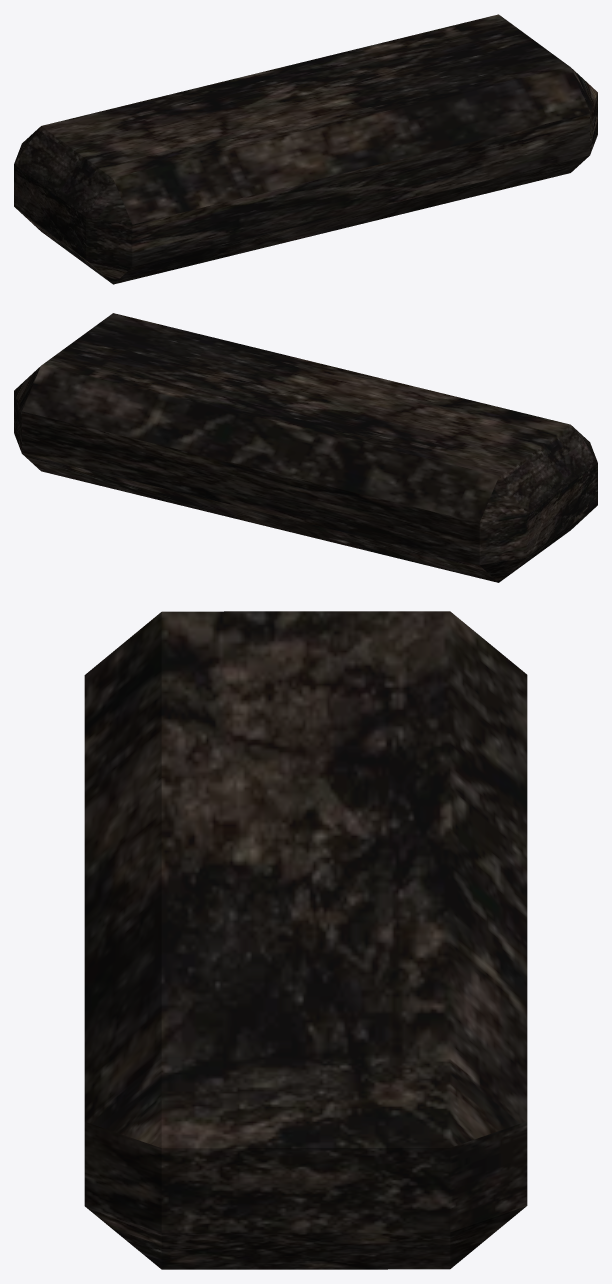
File: love-death-step-art.glb
The picture shows the model from 3 angles, top to bottom: view 1: azimuth 30°, elevation 25°; view 2: azimuth 150°, elevation 25°; view 3: azimuth 270°, elevation 25°; orthographic projection. The views are drawn at different scales.
Visible parts, largest first — view 1: LoveDeath_Step_Art; view 2: LoveDeath_Step_Art; view 3: LoveDeath_Step_Art.
Part boxes in pixels (bbox=[...]): LoveDeath_Step_Art: bbox=[14, 14, 597, 284]; LoveDeath_Step_Art: bbox=[14, 313, 597, 582]; LoveDeath_Step_Art: bbox=[84, 611, 527, 1269].
Size of the model in its own units: 1.25 by 0.247 by 0.4674.
1 material, 1 textured.
